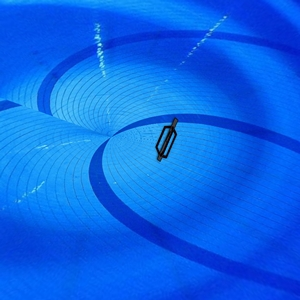submarine: (154, 114, 191, 168)
